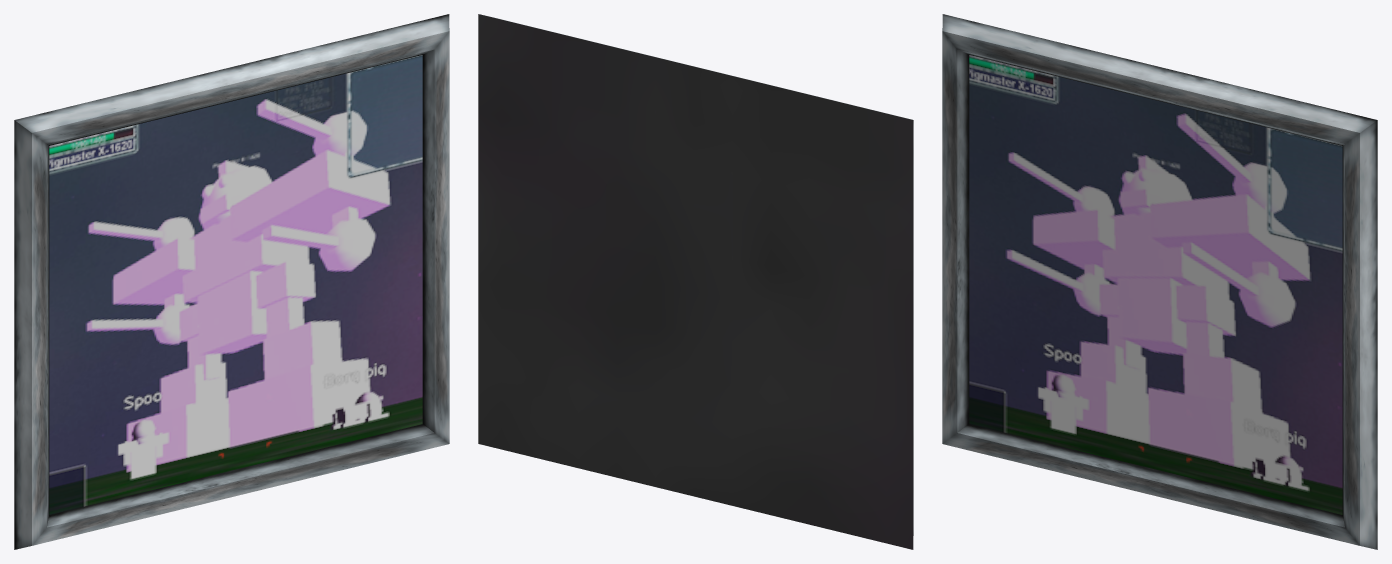
File: painting_eemba.DAE
3 renders of one model, left to right at view 1: azimuth 30°, elevation 25°; view 2: azimuth 150°, elevation 25°; view 3: azimuth 330°, elevation 25°, orthographic.
Visible parts, largest first — view 1: Box01; view 2: Box01; view 3: Box01.
Boxes of the visible parts, box(x1,y1,x2,y2) form: Box01: box(14, 14, 449, 549); Box01: box(478, 14, 913, 549); Box01: box(942, 14, 1377, 549).
Size of the model in its own units: 1.66 by 1.57 by 0.0591.
